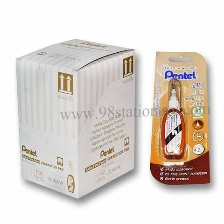book: (14, 35, 139, 202), (148, 47, 212, 187)
correction_fluid: (160, 76, 187, 161)
